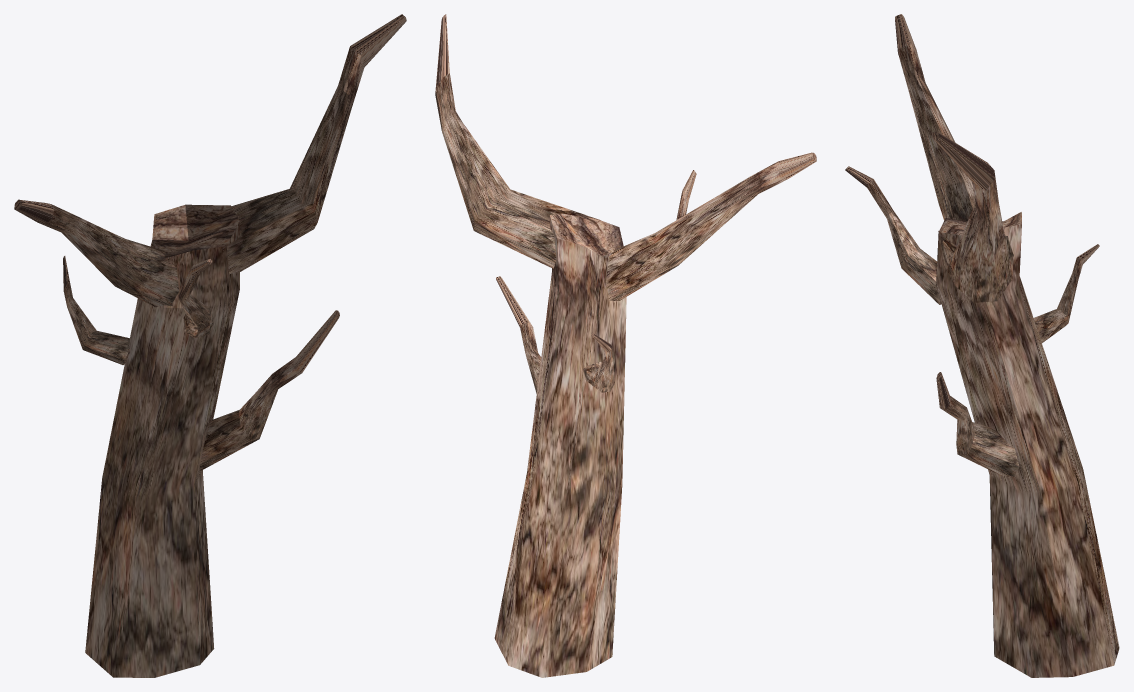
The model's file is deadtree.obj.
3 renders of one model, left to right at view 1: azimuth 30°, elevation 25°; view 2: azimuth 150°, elevation 25°; view 3: azimuth 270°, elevation 25°, orthographic. The views are drawn at different scales.
Parts seen in each view (by area): view 1: Cube.013; view 2: Cube.013; view 3: Cube.013.
Boxes of the visible parts, x1,y1,x2,y2 form: Cube.013: (14, 14, 406, 677); Cube.013: (435, 14, 816, 677); Cube.013: (845, 14, 1119, 677).
Size of the model in its own units: 1.74 by 2.59 by 1.05.
Materials: 1 (1 with a texture image).
